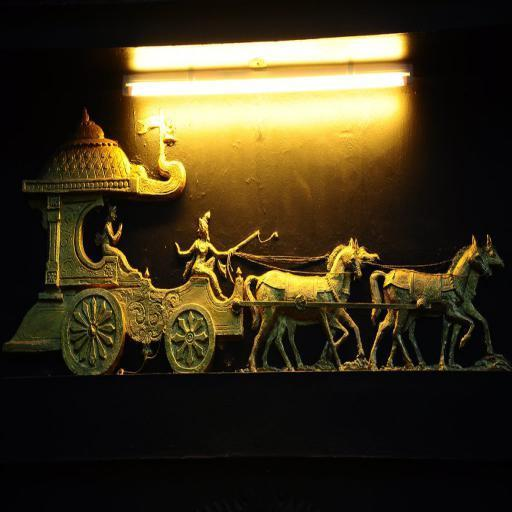horse: (368, 230, 494, 371), (242, 233, 362, 371), (386, 231, 506, 368), (261, 237, 379, 370)
